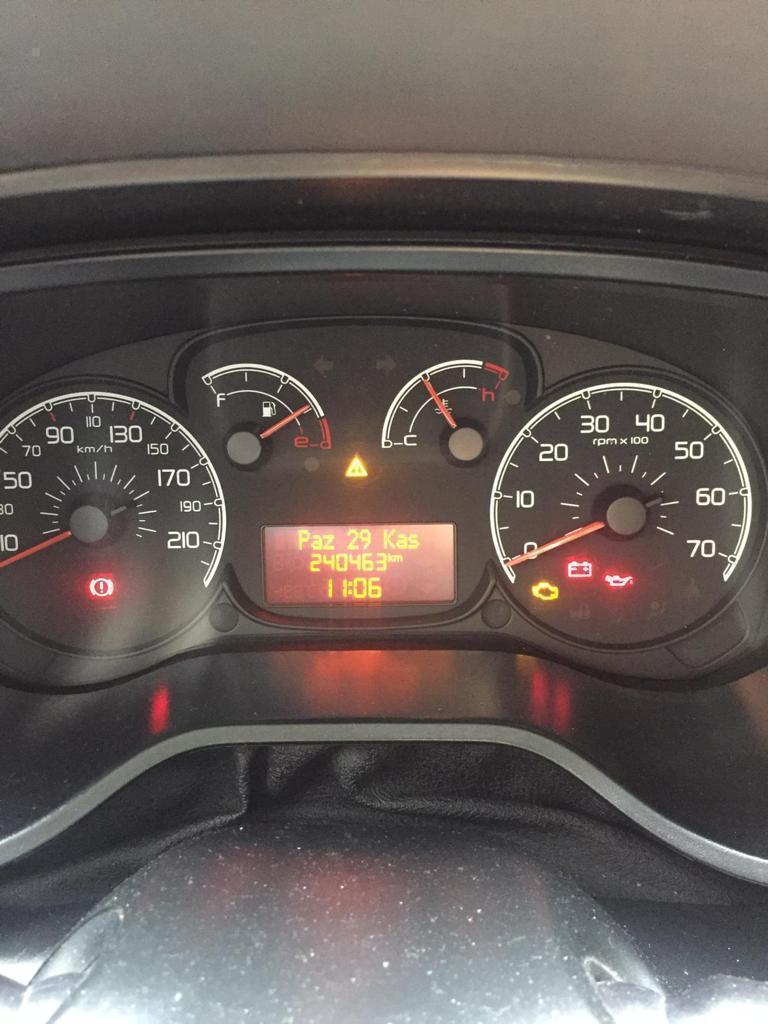0: (353, 576, 367, 599), (335, 552, 348, 571)
1: (327, 576, 333, 599), (342, 576, 347, 598)
2: (346, 527, 359, 549), (309, 553, 322, 572)
3: (375, 551, 387, 571)
4: (348, 553, 361, 570), (322, 553, 334, 570)
6: (367, 576, 382, 599), (361, 552, 374, 571)
9: (359, 527, 371, 549)
X: (297, 528, 310, 551), (382, 527, 395, 550), (310, 533, 322, 550), (323, 533, 335, 550), (407, 532, 419, 548), (396, 533, 407, 549), (393, 554, 403, 562), (348, 579, 352, 596), (387, 552, 393, 562)
odometer: (256, 516, 460, 608)
